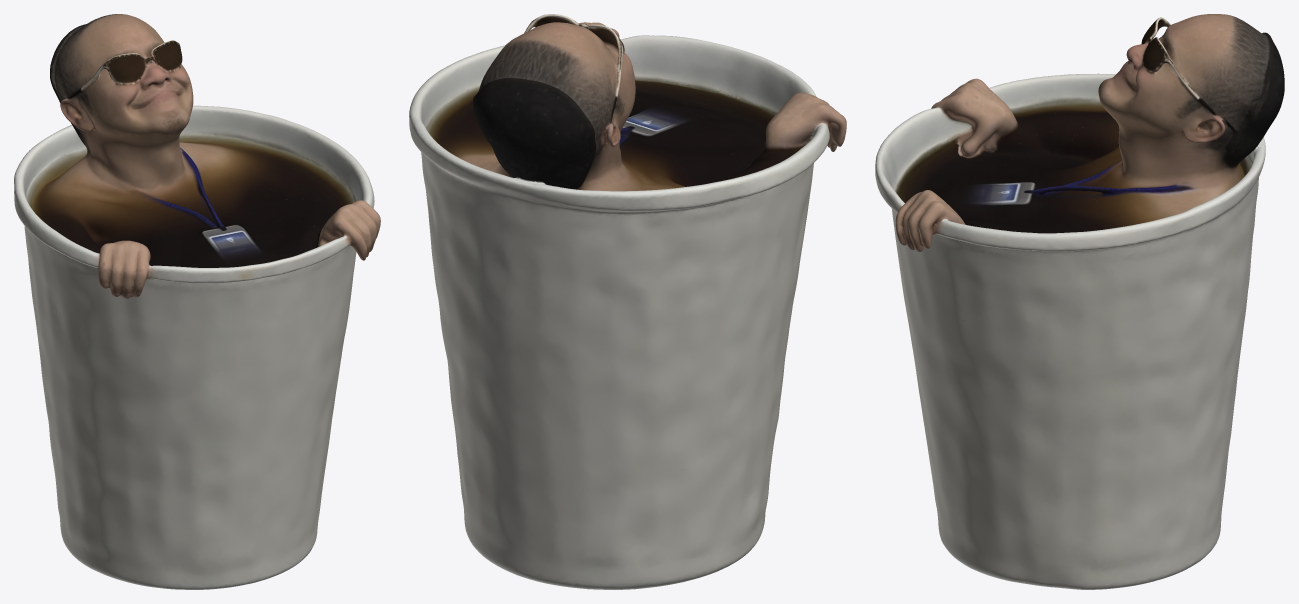
Rendered from mascot.glb.
3 views of the same model, side by side, from view 1: azimuth 30°, elevation 25°; view 2: azimuth 150°, elevation 25°; view 3: azimuth 270°, elevation 25° (orthographic). The views are drawn at different scales.
Bounding box in the file's own units: 1.31 × 1.9 × 1.38.
1 material, 1 textured.
